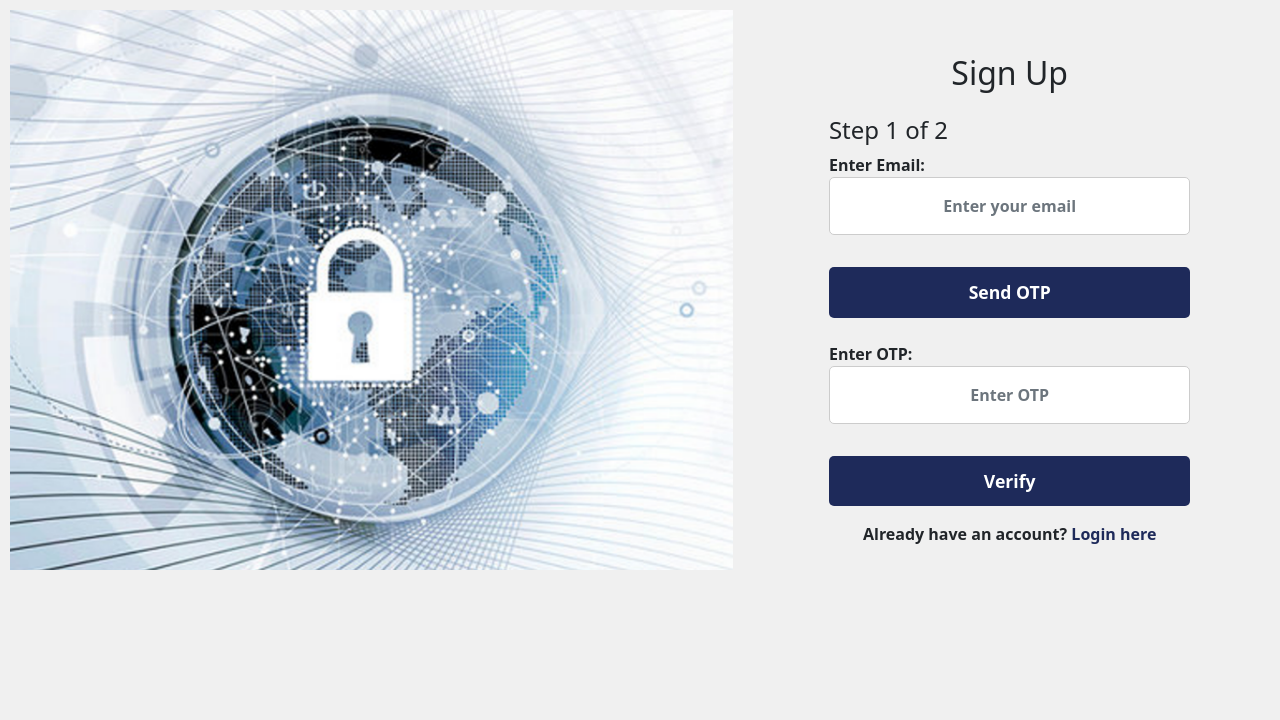
Test: Register Component › handles sending OTP successfully
Simulate user entering email
Type "test@example.com" into the field with placeholder "Enter your email".
click(1010, 206); type("test@example.com")  # box [829, 177, 1190, 235]
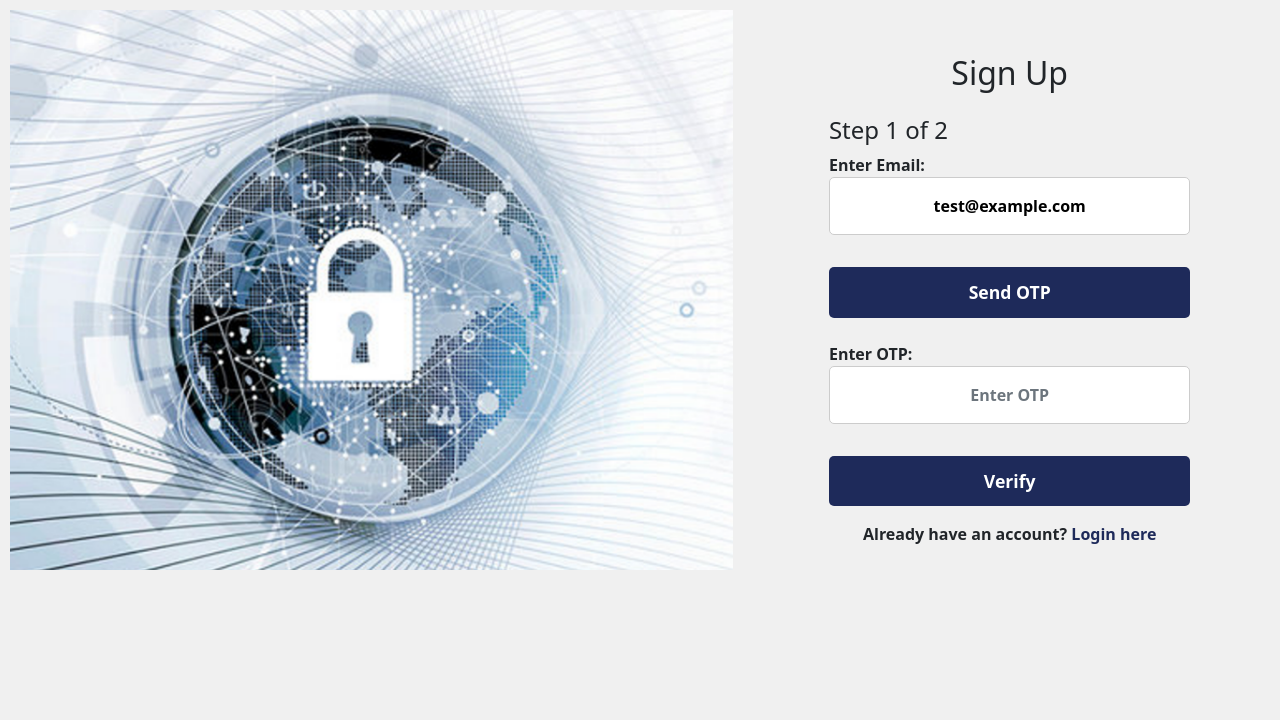
Simulate clicking the Send OTP button
Click the button "Send OTP".
click(1010, 292)  # box [829, 267, 1190, 318]
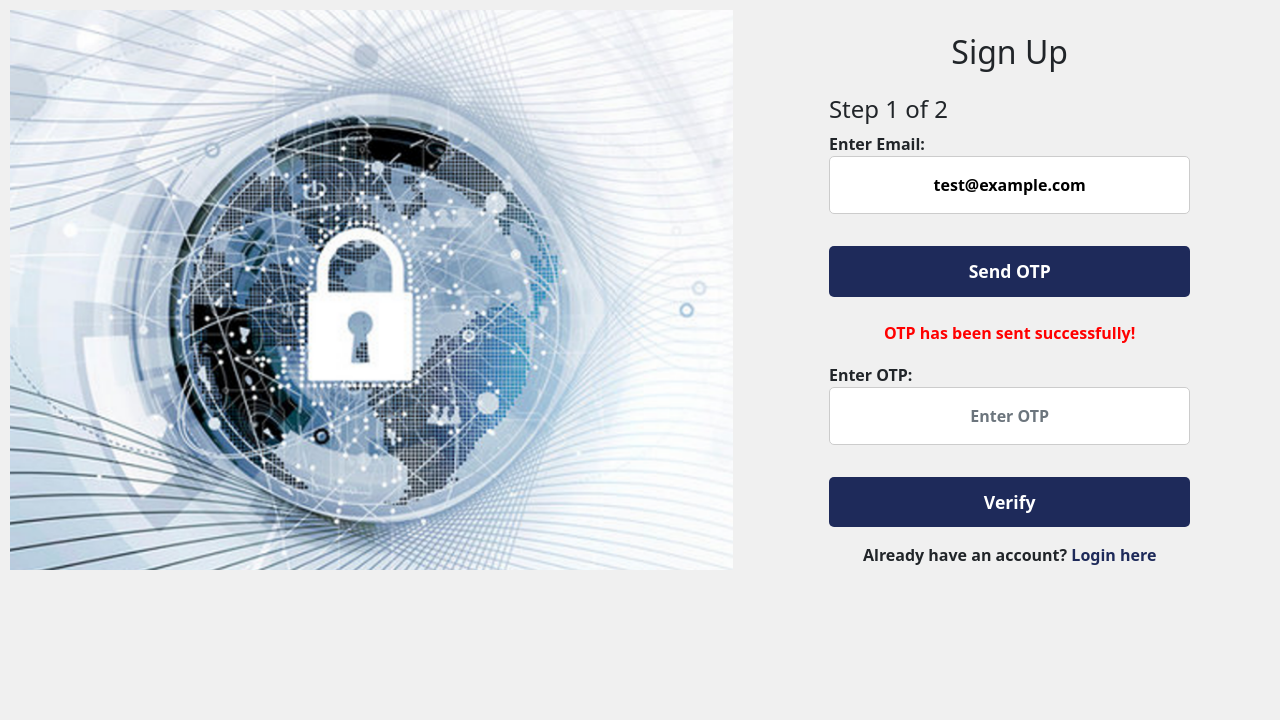
Check: the text "OTP has been sent successfully!" is shown, box [884, 322, 1135, 344]
